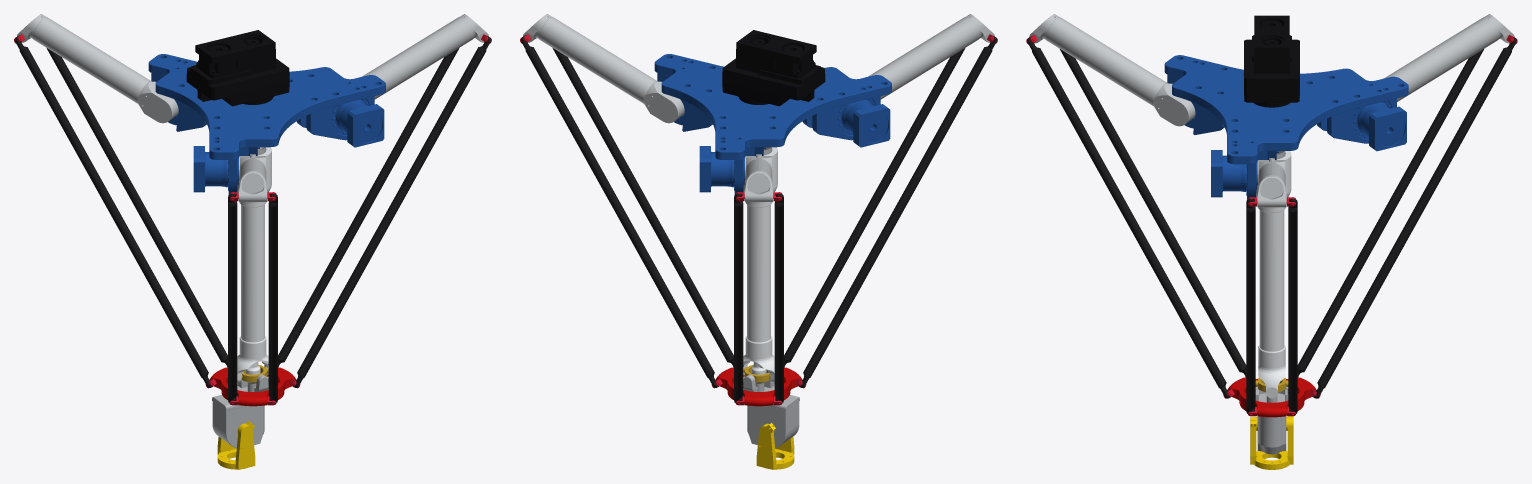
Rendered from Autonox-DELTA-RL5-1900-6kg.glb.
3 renders of one model, left to right at view 1: azimuth 30°, elevation 25°; view 2: azimuth 150°, elevation 25°; view 3: azimuth 270°, elevation 25°, orthographic. The views are drawn at different scales.
Parts seen in each view (by area): view 1: MT_WST00054870, MT_WST00066182, MT_WST00061379_5, MT_WST00061377, MT_WST00069206_5, MT_WST00069206, MT_WST00069206_7, MT_WST00069206_3, MT_WST00061379_3, MT_WST00066180, MT_WST00069206_9, MT_WST00069206_11 (+3 smaller); view 2: MT_WST00054870, MT_WST00066182, MT_WST00061379_3, MT_WST00061377, MT_WST00069206_7, MT_WST00069206_9, MT_WST00069206_5, MT_WST00069206_11, MT_WST00061379, MT_WST00066180, MT_WST00069206_3, MT_WST00069206 (+3 smaller); view 3: MT_WST00054870, MT_WST00061377, MT_WST00061379, MT_WST00066182, MT_WST00069206_11, MT_WST00069206_3, MT_WST00069206_9, MT_WST00069206, MT_WST00061379_5, MT_WST00069206_5, MT_WST00069206_7, MT_WST00066180 (+3 smaller).
Boxes of the visible parts, bbox=[...] form: MT_WST00054870: bbox=[148, 54, 385, 194]; MT_WST00066182: bbox=[186, 30, 289, 106]; MT_WST00061379_5: bbox=[17, 14, 178, 123]; MT_WST00061377: bbox=[237, 147, 271, 382]; MT_WST00069206_5: bbox=[293, 36, 490, 387]; MT_WST00069206: bbox=[15, 36, 212, 387]; MT_WST00069206_7: bbox=[278, 48, 459, 367]; MT_WST00069206_3: bbox=[46, 48, 227, 367]; MT_WST00061379_3: bbox=[362, 14, 488, 99]; MT_WST00066180: bbox=[212, 372, 268, 447]; MT_WST00069206_9: bbox=[228, 193, 237, 402]; MT_WST00069206_11: bbox=[268, 193, 277, 402]; MT_WST00054870: bbox=[654, 54, 891, 194]; MT_WST00066182: bbox=[722, 30, 825, 106]; MT_WST00061379_3: bbox=[523, 14, 684, 123]; MT_WST00061377: bbox=[743, 147, 777, 382]; MT_WST00069206_7: bbox=[521, 36, 718, 387]; MT_WST00069206_9: bbox=[799, 36, 996, 387]; MT_WST00069206_5: bbox=[552, 48, 733, 367]; MT_WST00069206_11: bbox=[784, 48, 965, 367]; MT_WST00061379: bbox=[868, 14, 994, 99]; MT_WST00066180: bbox=[743, 372, 799, 447]; MT_WST00069206_3: bbox=[734, 193, 743, 402]; MT_WST00069206: bbox=[774, 193, 783, 402]; MT_WST00054870: bbox=[1164, 55, 1408, 199]; MT_WST00061377: bbox=[1256, 151, 1291, 398]; MT_WST00061379: bbox=[1029, 14, 1195, 126]; MT_WST00066182: bbox=[1244, 15, 1299, 107]; MT_WST00069206_11: bbox=[1027, 37, 1230, 398]; MT_WST00069206_3: bbox=[1313, 37, 1516, 398]; MT_WST00069206_9: bbox=[1060, 49, 1246, 377]; MT_WST00069206: bbox=[1297, 49, 1483, 377]; MT_WST00061379_5: bbox=[1384, 14, 1514, 101]; MT_WST00069206_5: bbox=[1246, 198, 1255, 413]; MT_WST00069206_7: bbox=[1288, 198, 1297, 413]; MT_WST00066180: bbox=[1255, 386, 1288, 454].
Size of the model in its own units: 1.38 by 1.53 by 1.59.
